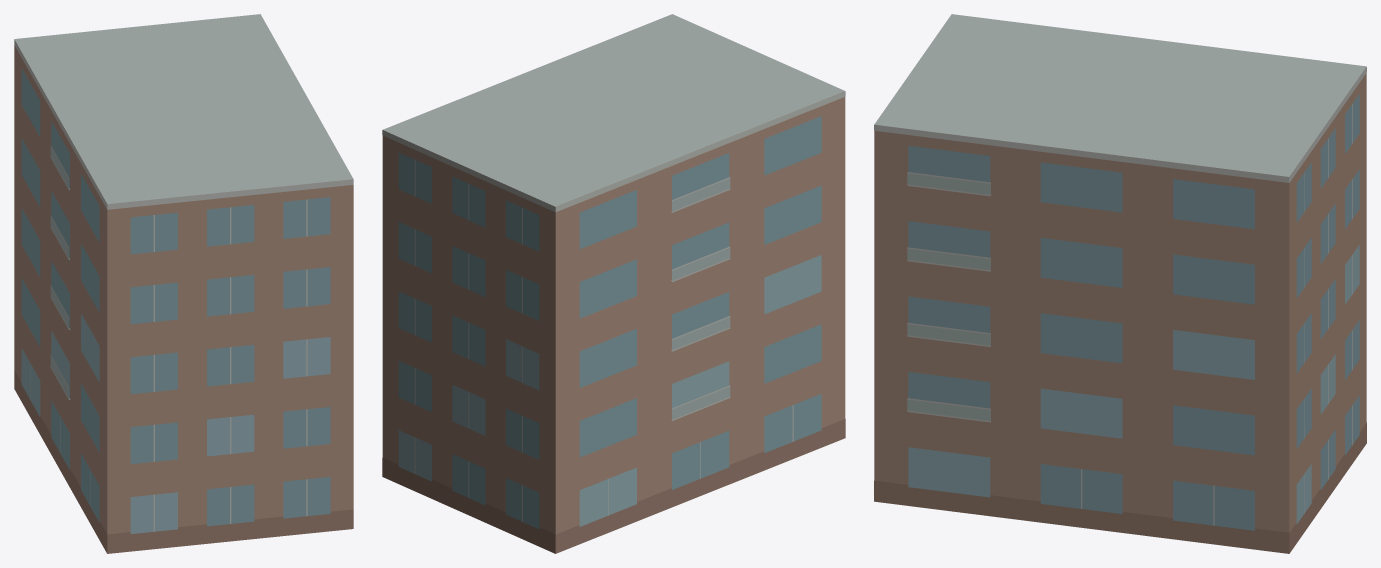
The model's file is survey-upis-33006028.glb.
3 views of the same model, side by side, from view 1: azimuth 30°, elevation 25°; view 2: azimuth 150°, elevation 25°; view 3: azimuth 270°, elevation 25° (orthographic). The views are drawn at different scales.
Parts seen in each view (by area): view 1: survey-upis-33006028.tmp; view 2: survey-upis-33006028.tmp; view 3: survey-upis-33006028.tmp.
Part boxes in pixels (left/top/right/bottom): survey-upis-33006028.tmp: left=14, top=14, right=353, bottom=553; survey-upis-33006028.tmp: left=382, top=14, right=845, bottom=553; survey-upis-33006028.tmp: left=874, top=14, right=1366, bottom=553.
Size of the model in its own units: 14.15 by 15.25 by 18.08.
